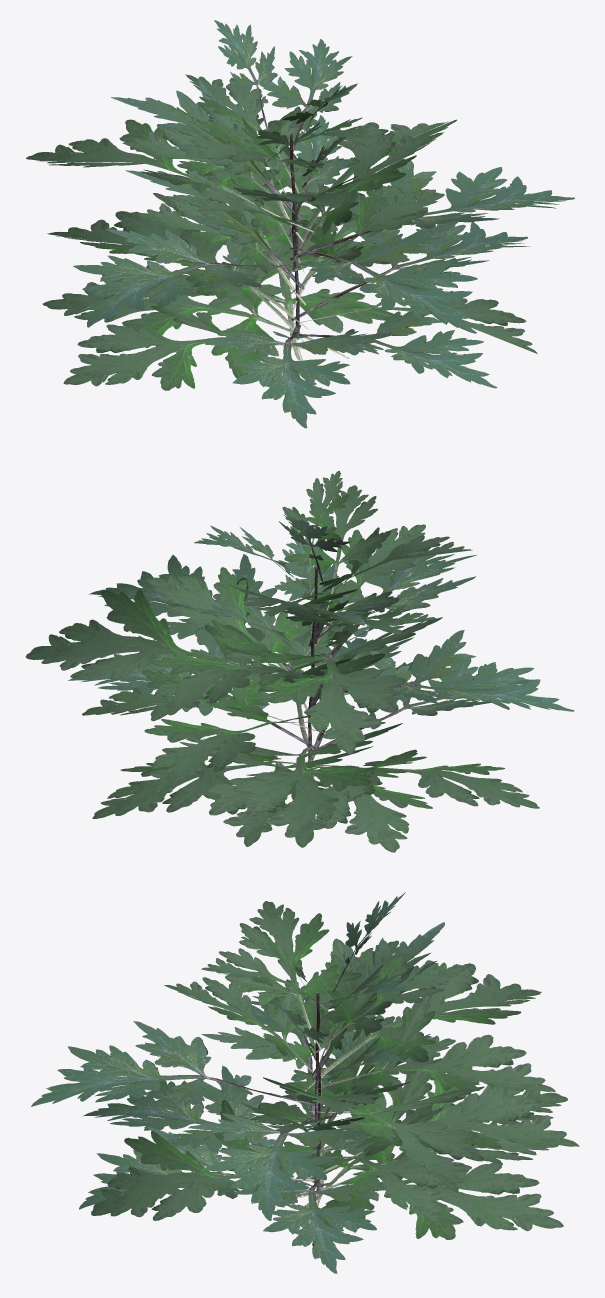
File: Korean Mugwort_Type 04.fbx
The picture shows the model from 3 angles, top to bottom: view 1: azimuth 30°, elevation 25°; view 2: azimuth 150°, elevation 25°; view 3: azimuth 270°, elevation 25°; orthographic projection. The views are drawn at different scales.
Parts seen in each view (by area): view 1: Korean Mugwort_Type 04; view 2: Korean Mugwort_Type 04; view 3: Korean Mugwort_Type 04.
Part boxes in pixels (left/top/right/bottom): Korean Mugwort_Type 04: left=26, top=20, right=574, bottom=428; Korean Mugwort_Type 04: left=25, top=470, right=574, bottom=852; Korean Mugwort_Type 04: left=31, top=892, right=579, bottom=1273.
Bounding box in the file's own units: 48.19 × 27.77 × 47.61.
